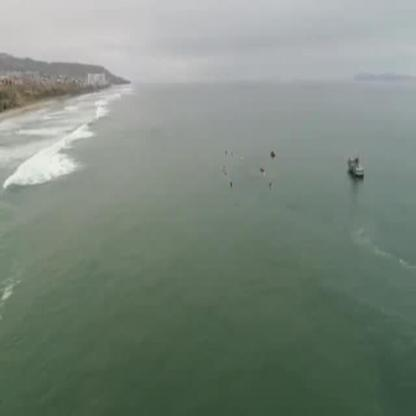Boat: (343, 154, 367, 185)
